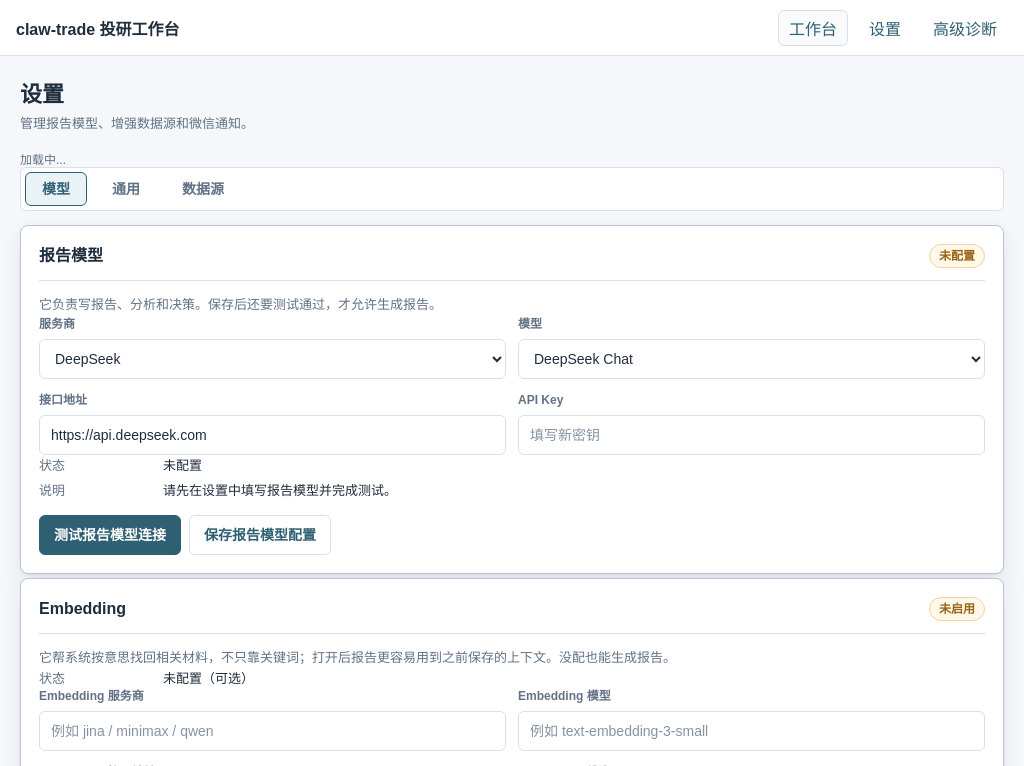
Scenario: settings-wechat settings page › does not invent data source defaults before slow saved settings load finishes
Click the tab "数据源" at [203, 189], box [165,172,241,206]
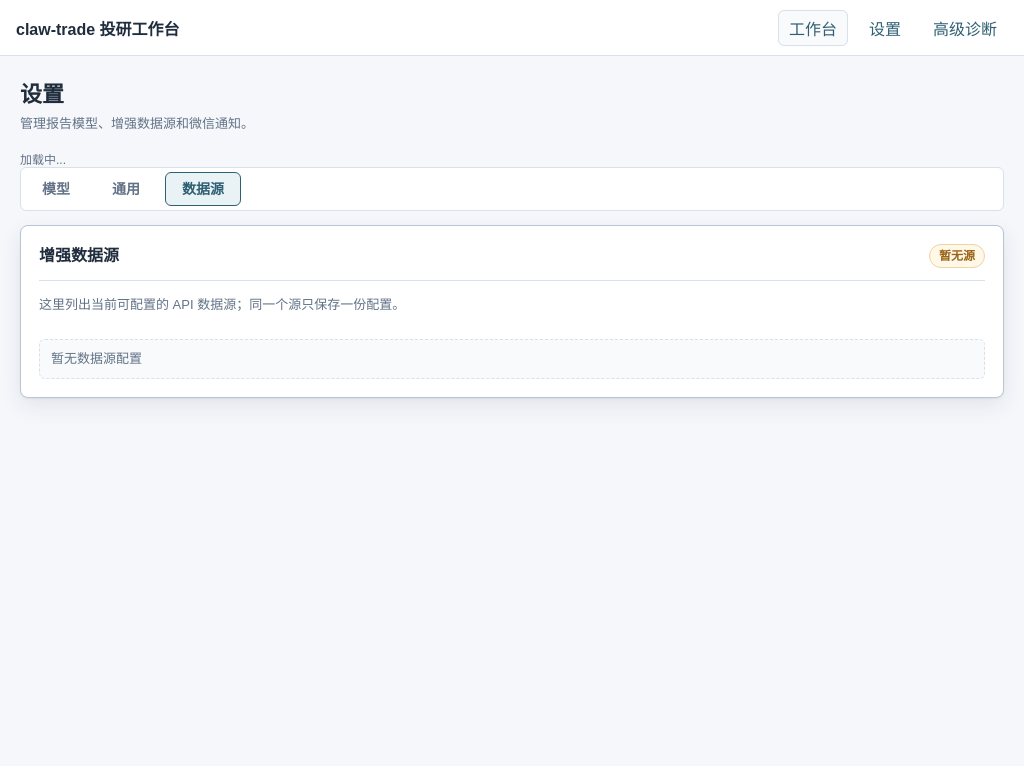
Result: the text "暂无数据源配置" is shown at [39,339,985,379]
Result: the text labelled "接口地址" is gone
